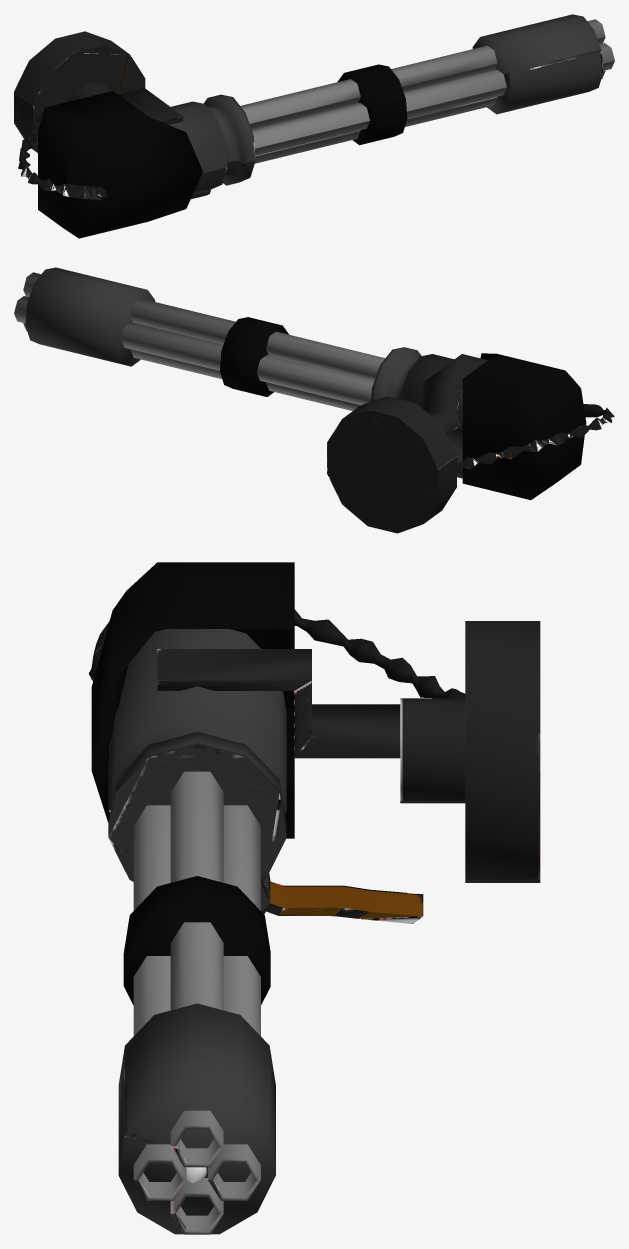
Rendered from Minigun_dead.fbx.
The picture shows the model from 3 angles, top to bottom: view 1: azimuth 30°, elevation 25°; view 2: azimuth 150°, elevation 25°; view 3: azimuth 270°, elevation 25°; orthographic projection. The views are drawn at different scales.
Visible parts, largest first — view 1: main_turret, Color0; view 2: main_turret, Color0; view 3: main_turret, Color0.
Part boxes in pixels (x1=…): main_turret: x1=14, y1=14, x2=614, y2=201; Color0: x1=38, y1=64, x2=407, y2=238; main_turret: x1=14, y1=267, x2=614, y2=533; Color0: x1=219, y1=317, x2=586, y2=499; main_turret: x1=88, y1=609, x2=540, y2=1234; Color0: x1=91, y1=562, x2=294, y2=1005.
Size of the model in its own units: 60.26 by 12.91 by 20.54.
Materials: 7 (6 with a texture image).
